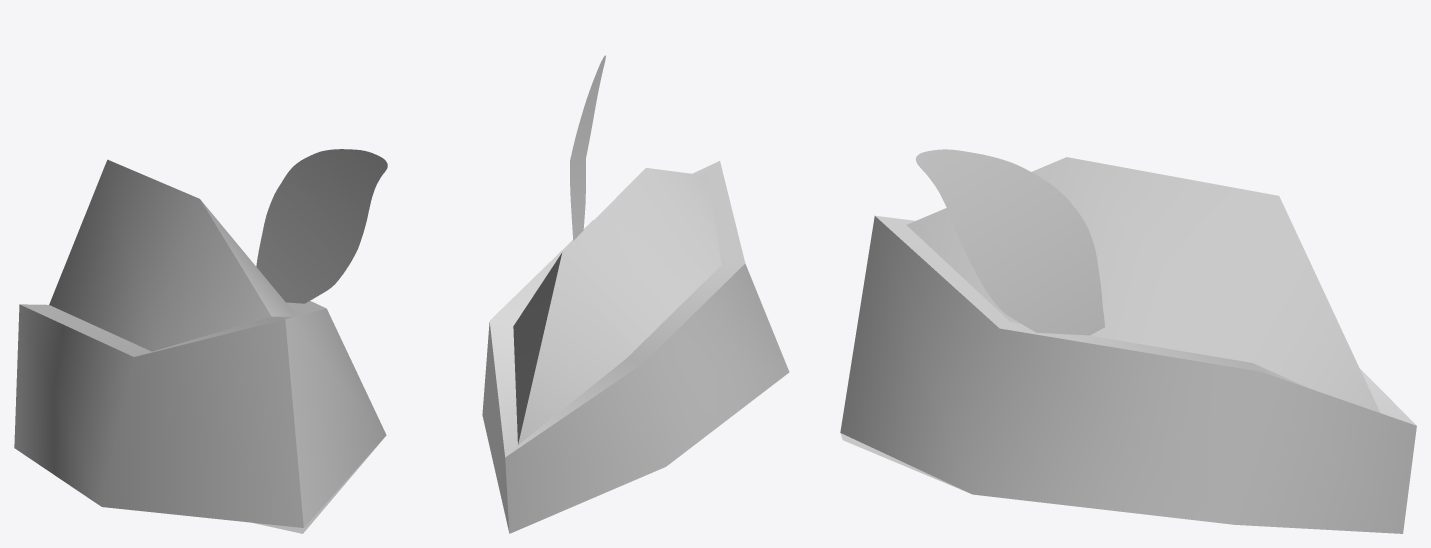
The model's file is cat_pen.fbx.
The picture shows the model from 3 angles, left to right: view 1: azimuth 30°, elevation 25°; view 2: azimuth 150°, elevation 25°; view 3: azimuth 270°, elevation 25°; orthographic projection. The views are drawn at different scales.
Visible parts, largest first — view 1: Cube, Plane; view 2: Cube, Plane; view 3: Cube, Plane.
Part boxes in pixels (bbox=[...]): Cube: bbox=[14, 159, 386, 533]; Plane: bbox=[256, 149, 387, 303]; Cube: bbox=[482, 161, 789, 533]; Plane: bbox=[570, 55, 605, 240]; Cube: bbox=[840, 157, 1416, 533]; Plane: bbox=[916, 149, 1104, 335].
Size of the model in its own units: 65.7 by 113 by 111.
